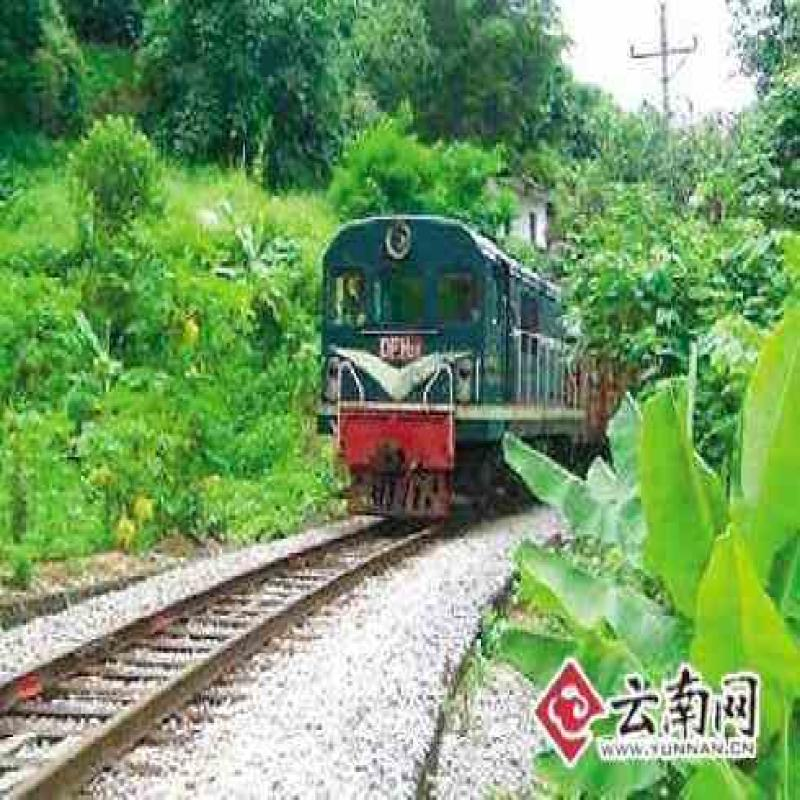train: (293, 202, 576, 535)
